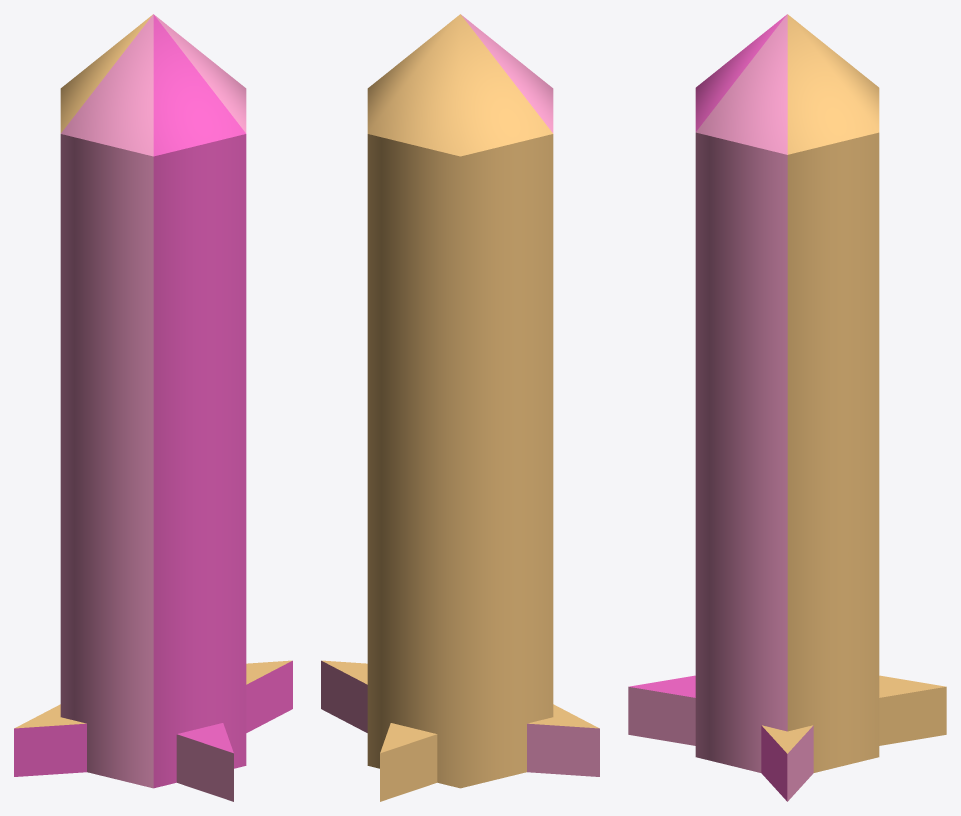
File: Solo.MissileMesh.PinkCosmos.glb
3 views of the same model, side by side, from view 1: azimuth 30°, elevation 25°; view 2: azimuth 150°, elevation 25°; view 3: azimuth 270°, elevation 25° (orthographic).
Visible parts, largest first — view 1: Solo.MissileMesh.PinkCosmos; view 2: Solo.MissileMesh.PinkCosmos; view 3: Solo.MissileMesh.PinkCosmos.
Boxes of the visible parts, x1,y1,x2,y2 form: Solo.MissileMesh.PinkCosmos: (14,14,292,801); Solo.MissileMesh.PinkCosmos: (321,14,599,801); Solo.MissileMesh.PinkCosmos: (628,14,946,801).
Size of the model in its own units: 0.6 by 1.5 by 0.6.
1 material, 1 textured.
